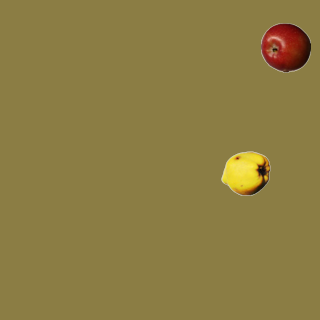Apple Braeburn: (260, 22, 310, 72)
Quince: (220, 148, 270, 198)
